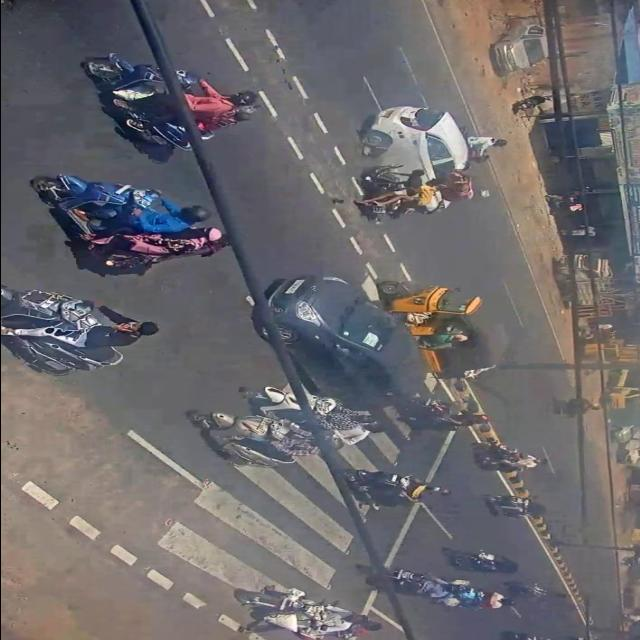accident: (327, 103, 488, 221)
non_accident: (184, 270, 511, 470)
